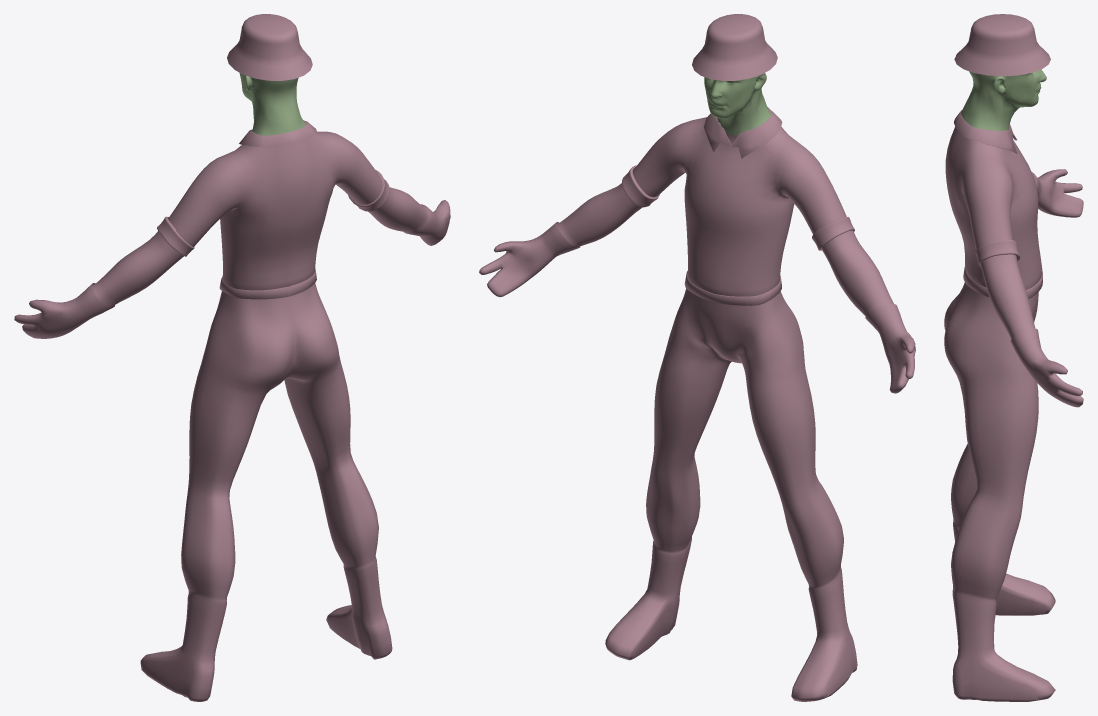
File: MOD_MainCharacter.fbx
3 renders of one model, left to right at view 1: azimuth 30°, elevation 25°; view 2: azimuth 150°, elevation 25°; view 3: azimuth 270°, elevation 25°, orthographic.
Parts seen in each view (by area): view 1: CharacterModel; view 2: CharacterModel; view 3: CharacterModel.
Boxes of the visible parts, <box> form: CharacterModel: <box>14,14,450,701</box>; CharacterModel: <box>479,14,915,701</box>; CharacterModel: <box>944,14,1083,701</box>.
Size of the model in its own units: 215 by 305 by 60.84.
